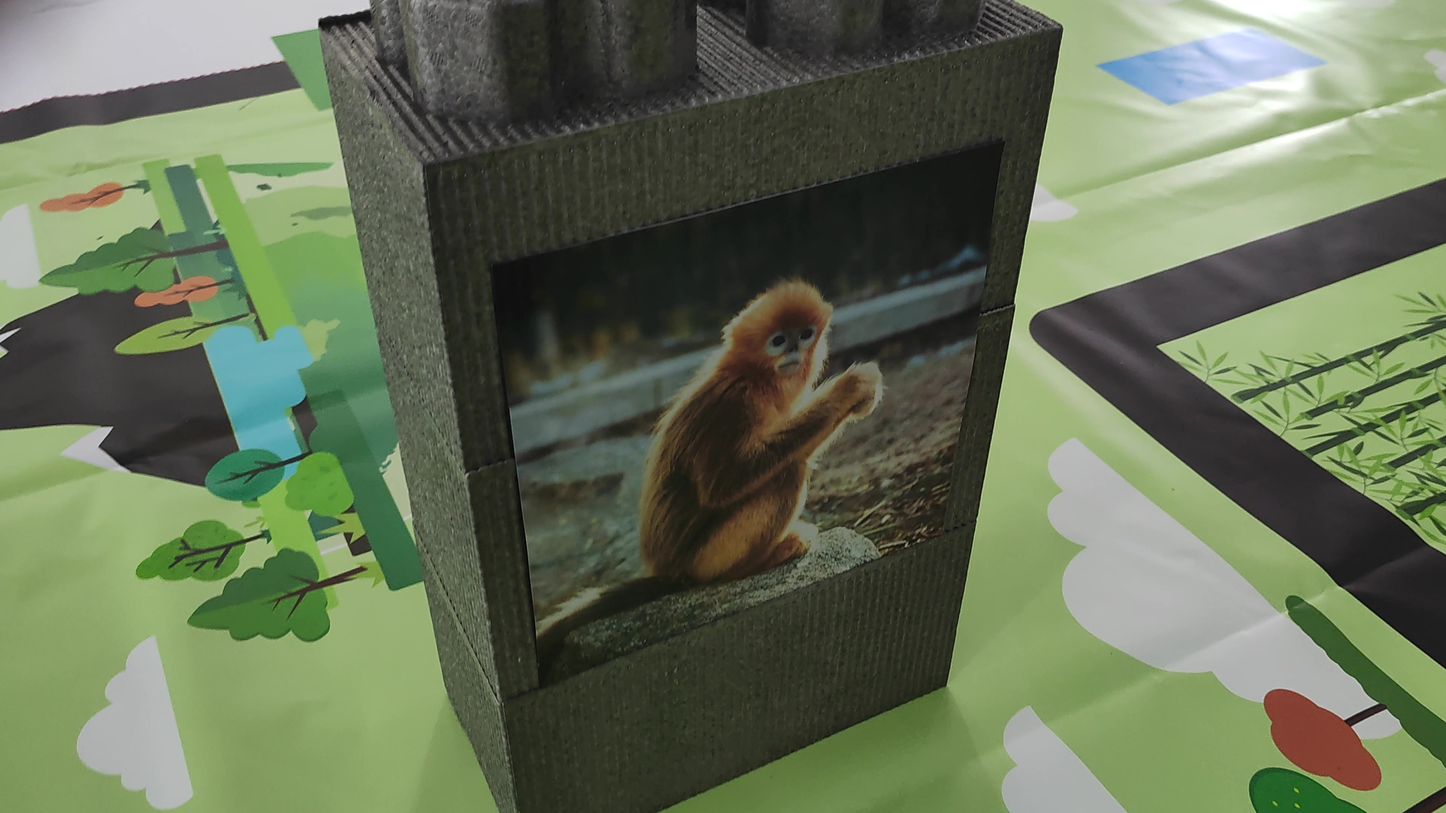monkey: (516, 269, 905, 674)
